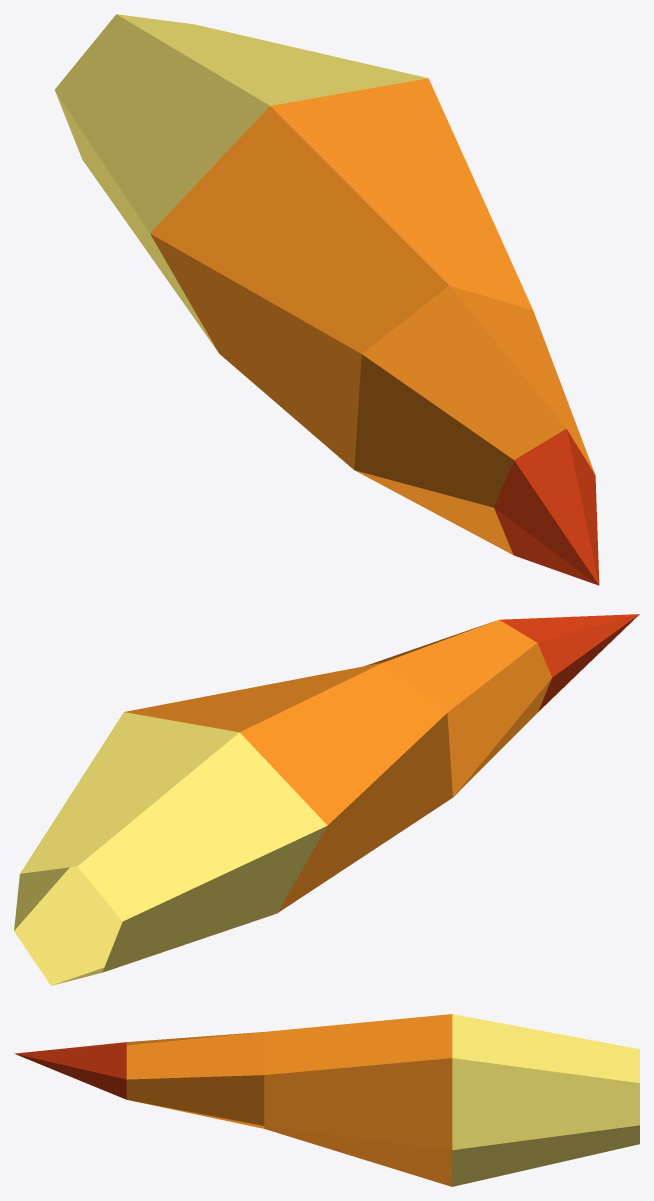
3 renders of one model, top to bottom at view 1: azimuth 30°, elevation 25°; view 2: azimuth 150°, elevation 25°; view 3: azimuth 270°, elevation 25°, orthographic. The views are drawn at different scales.
Visible parts, largest first — view 1: t00_g20_p1; view 2: t00_g20_p1; view 3: t00_g20_p1.
Boxes of the visible parts, x1,y1,x2,y2 form: t00_g20_p1: (55,14,599,585); t00_g20_p1: (14,614,639,985); t00_g20_p1: (14,1014,639,1186).
Bounding box in the file's own units: 2.56 × 2.43 × 9.
